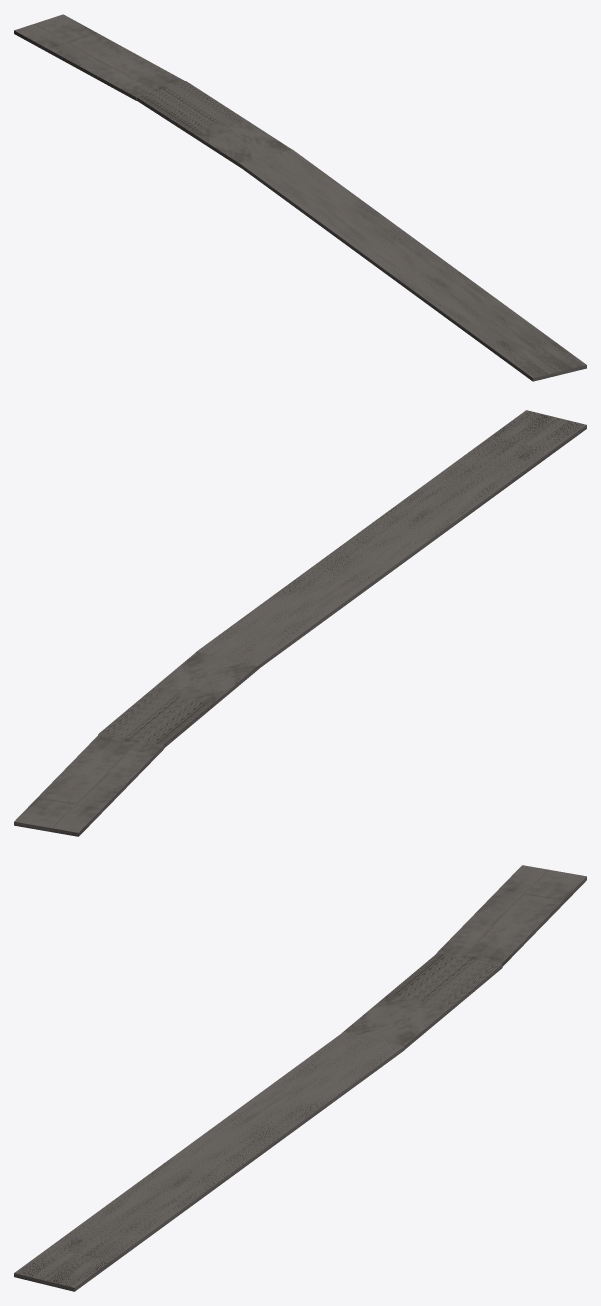
Rendered from SM_subciel.fbx.
3 views of the same model, one above another, from view 1: azimuth 30°, elevation 25°; view 2: azimuth 150°, elevation 25°; view 3: azimuth 330°, elevation 25° (orthographic). The views are drawn at different scales.
Parts seen in each view (by area): view 1: Cube.012; view 2: Cube.012; view 3: Cube.012.
Part boxes in pixels (x1,y1,x2,y2): Cube.012: (14,14,586,381); Cube.012: (14,410,586,836); Cube.012: (14,865,586,1291).
Size of the model in its own units: 800 by 30.83 by 7809.
